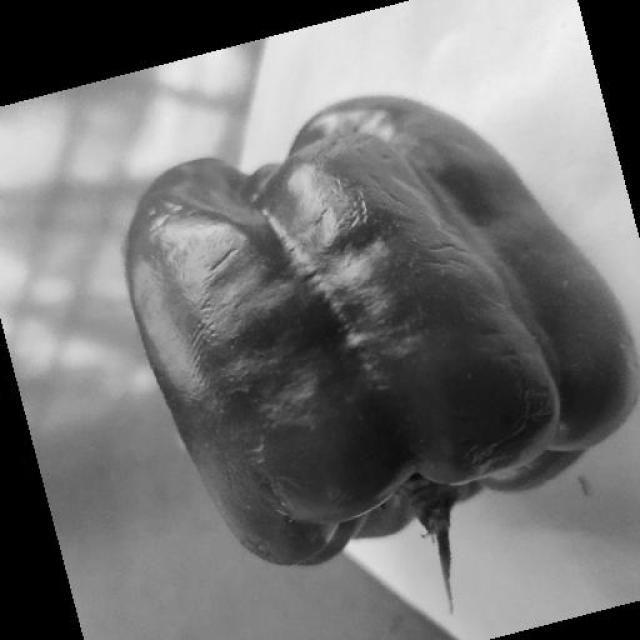Stale_Capsicum: (118, 123, 633, 558)
